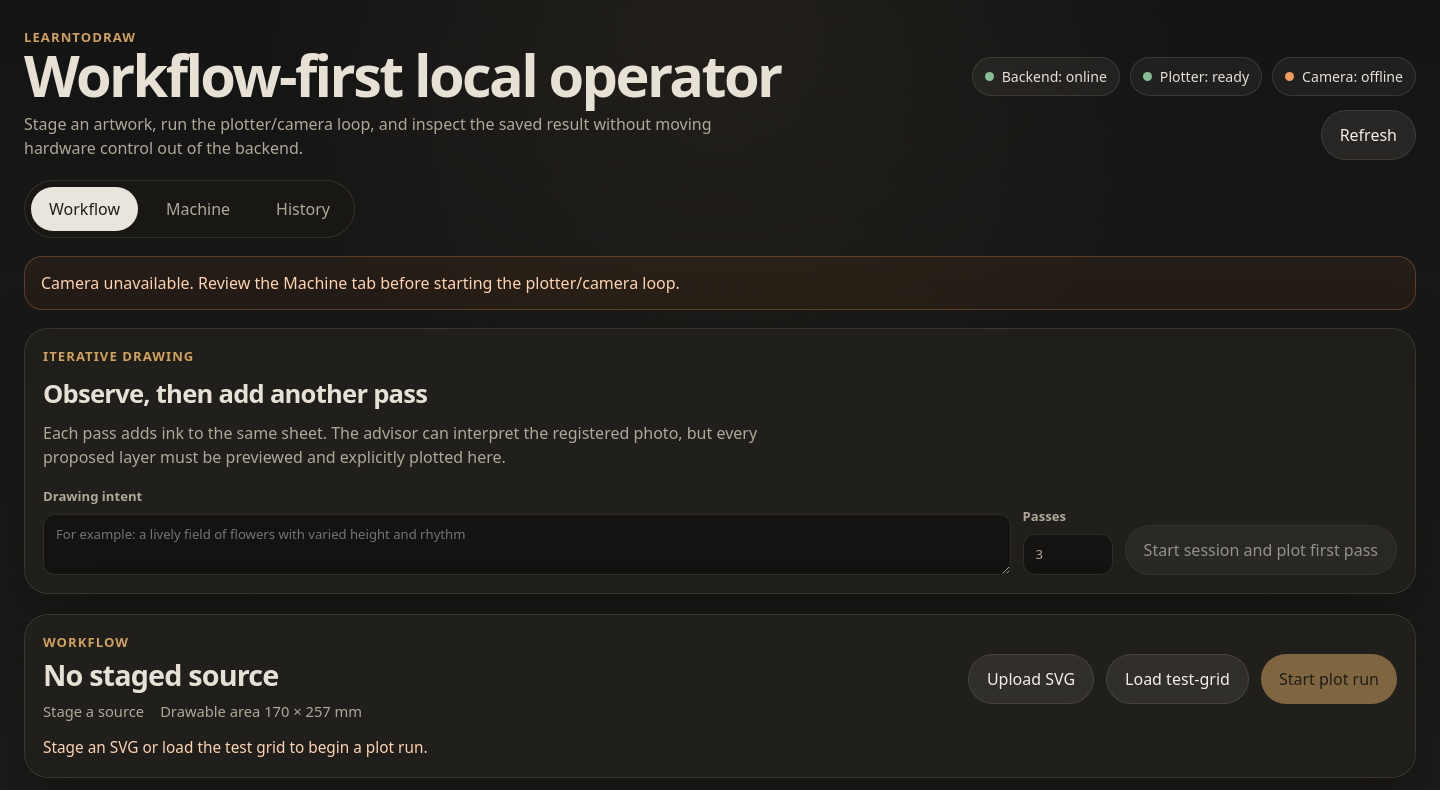
Scenario: machine and camera focused behaviors › persists CameraBridge device selection through the backend on the Machine tab
This screenshot has width=1440, height=790.
Click the button "Machine" at x=198, y=209, box [148,187,248,231]
(page scrolled)
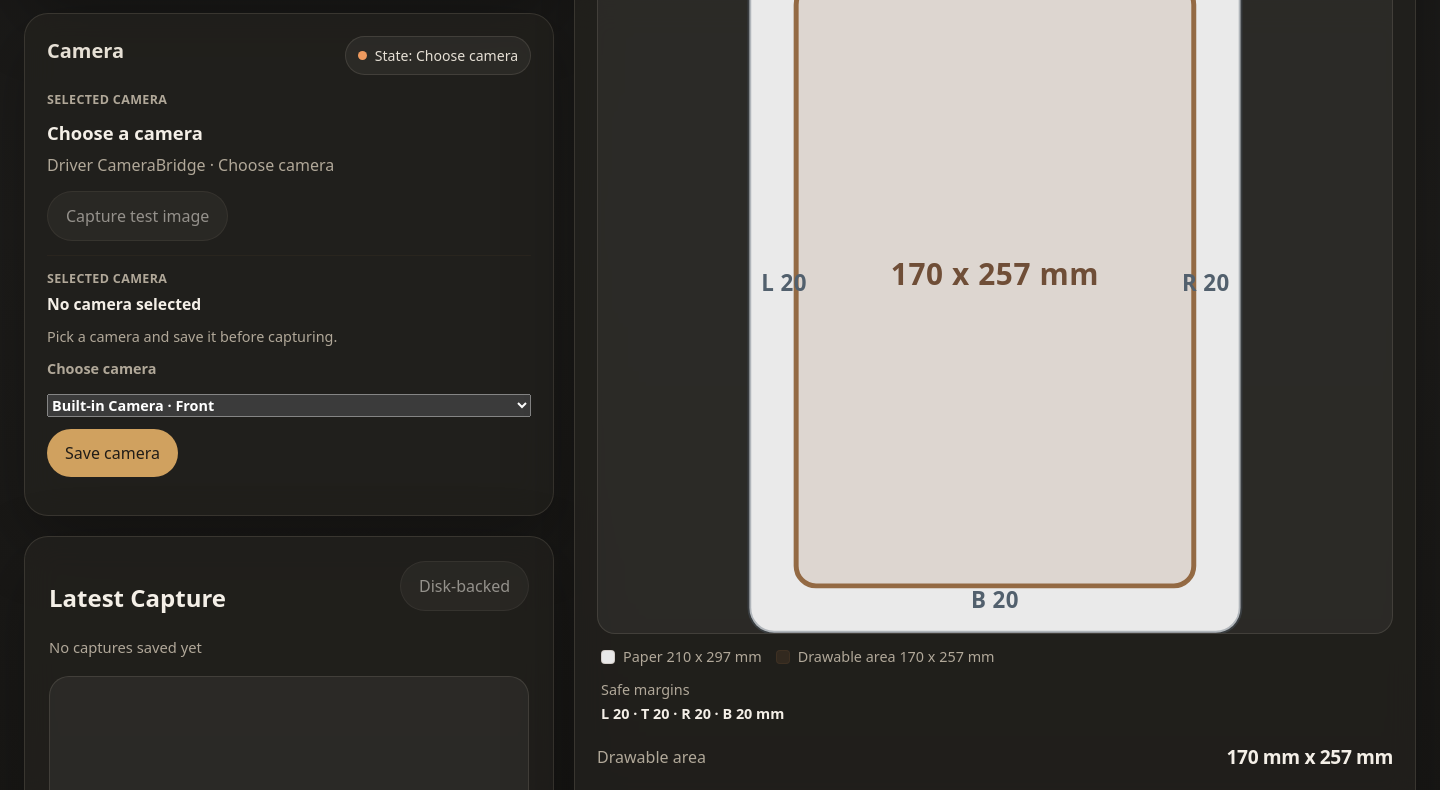
Select "Desk Camera · External" in the dropdown labelled "Choose camera" at x=289, y=405, box [47,394,531,416]
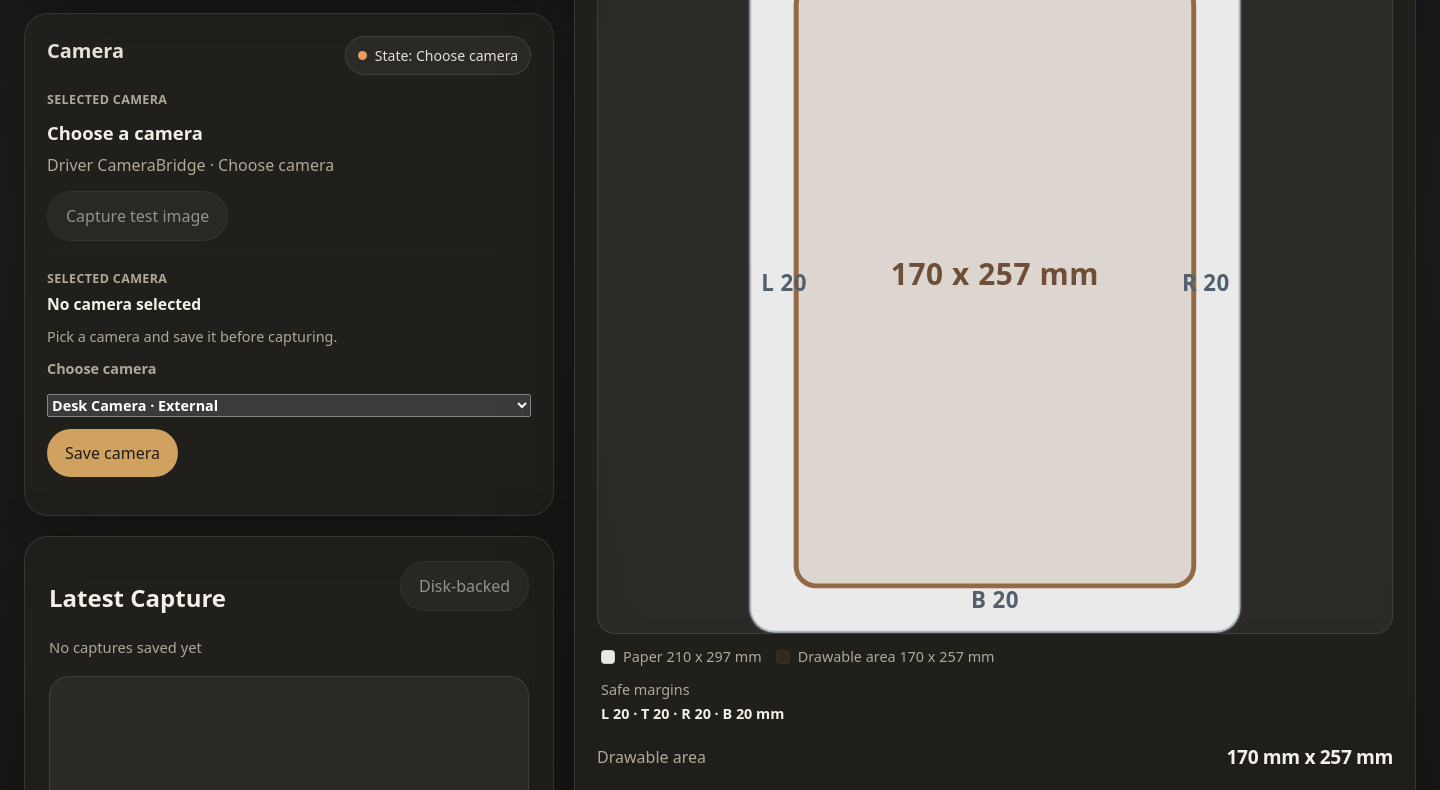
Click the button "Save camera" at x=112, y=452, box [47,428,178,476]
(page scrolled)
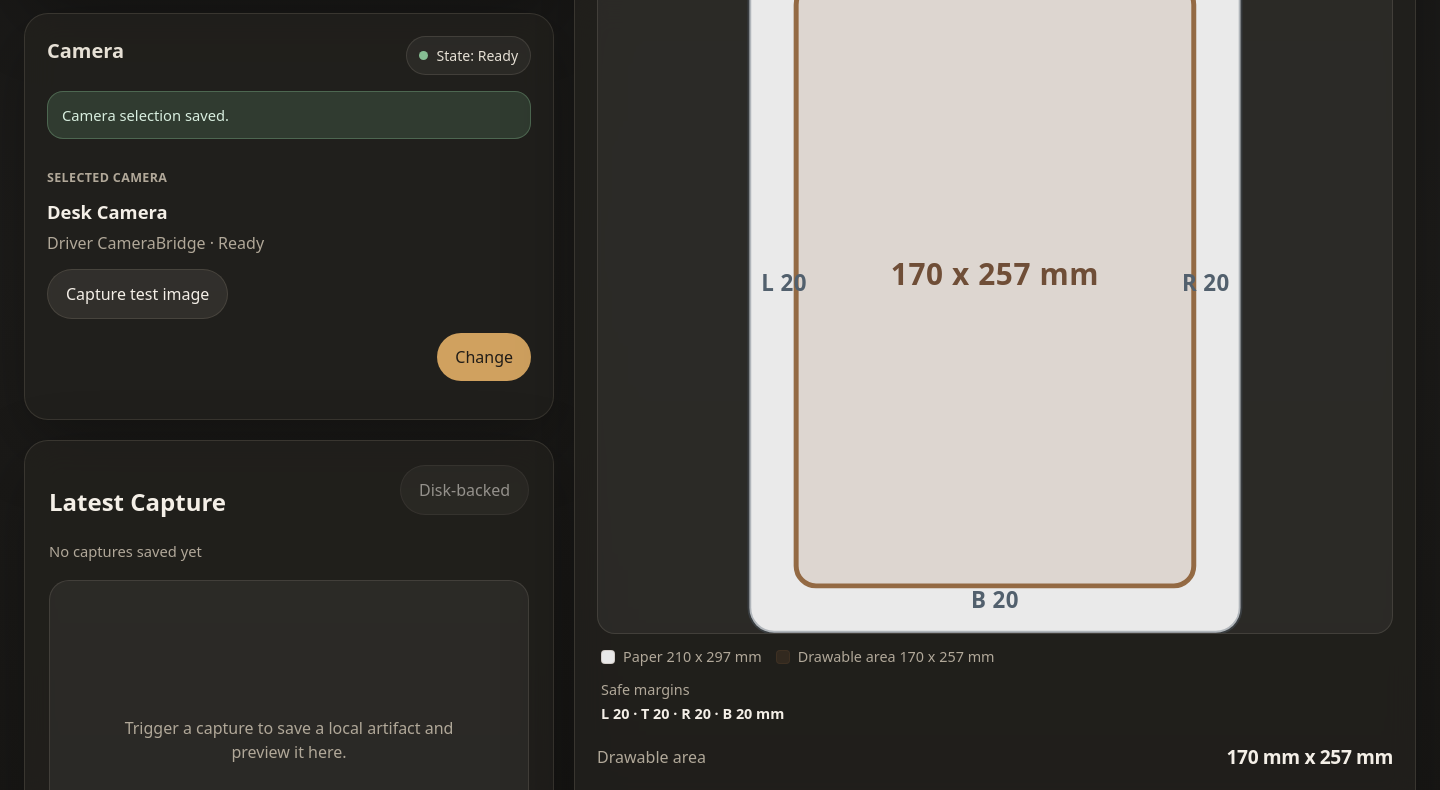
Check: the element "Camera" is shown, box [24,13,554,420]
Check: the text "Camera selection saved." is shown, box [47,91,531,139]
Check: the heading "Desk Camera" is shown, box [47,198,168,224]
